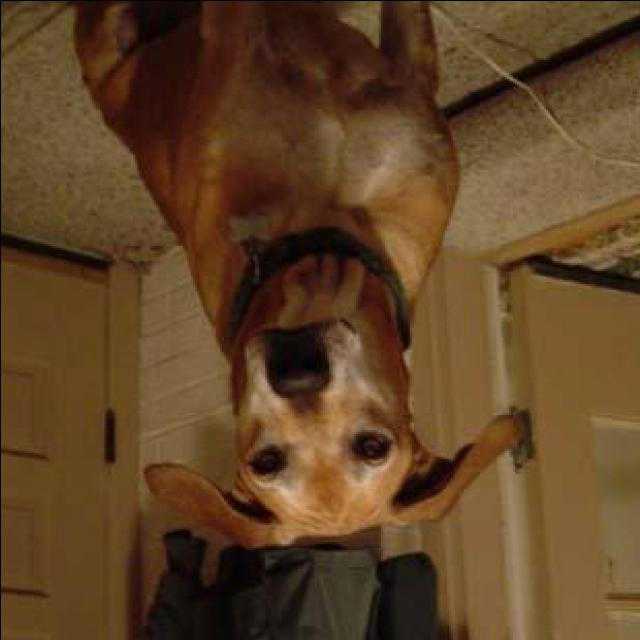rhodesian_ridgeback: (66, 2, 524, 551)
